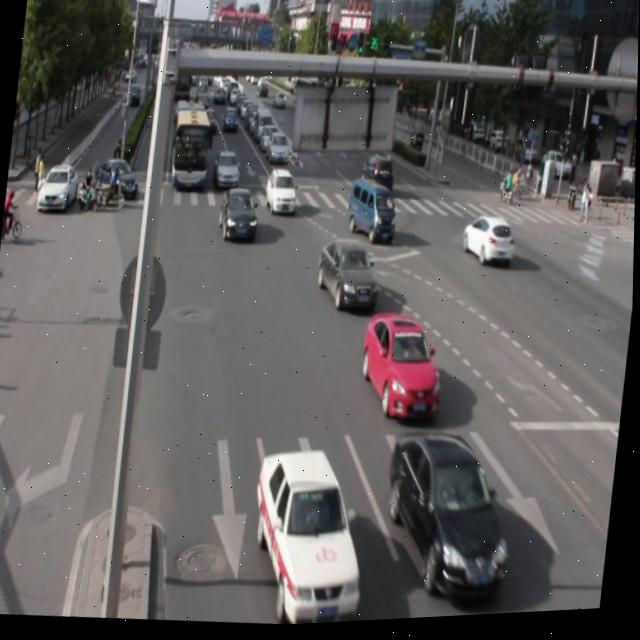car: (379, 424, 521, 610), (247, 441, 376, 629), (358, 308, 451, 427), (315, 236, 385, 319), (459, 215, 518, 268), (218, 184, 262, 246)
truck: (345, 178, 401, 246)
